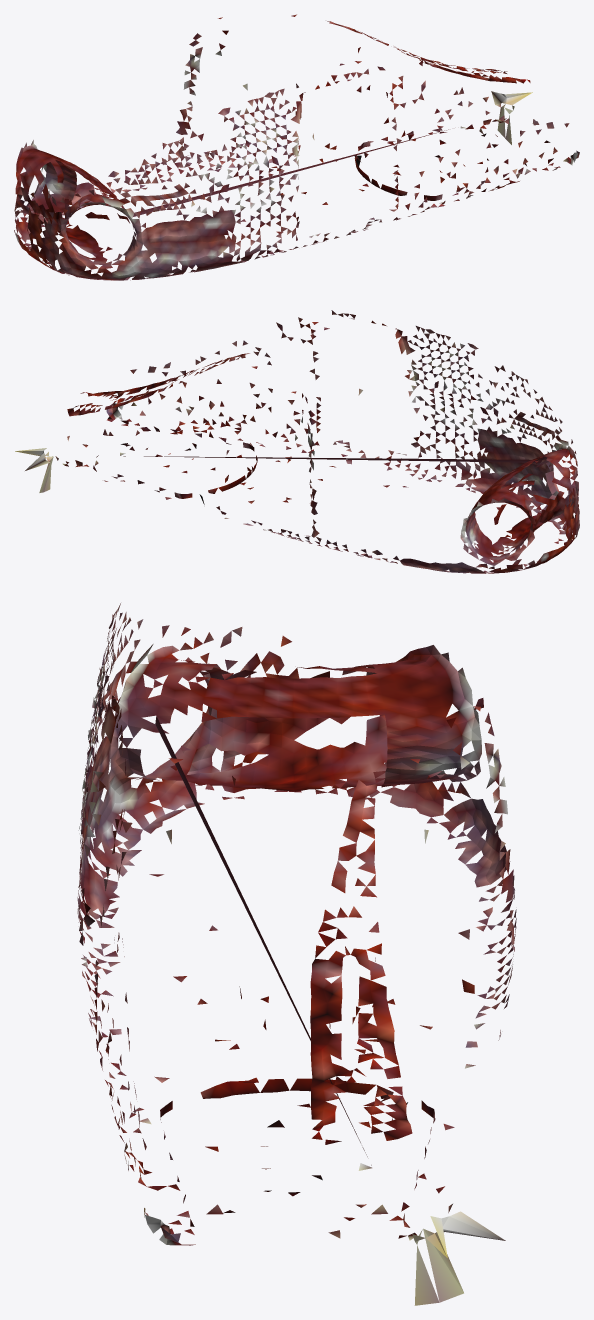
The model's file is whistle_final1300.obj.
3 views of the same model, one above another, from view 1: azimuth 30°, elevation 25°; view 2: azimuth 150°, elevation 25°; view 3: azimuth 270°, elevation 25° (orthographic). The views are drawn at different scales.
Size of the model in its own units: 2.01 by 0.6693 by 0.7424.
